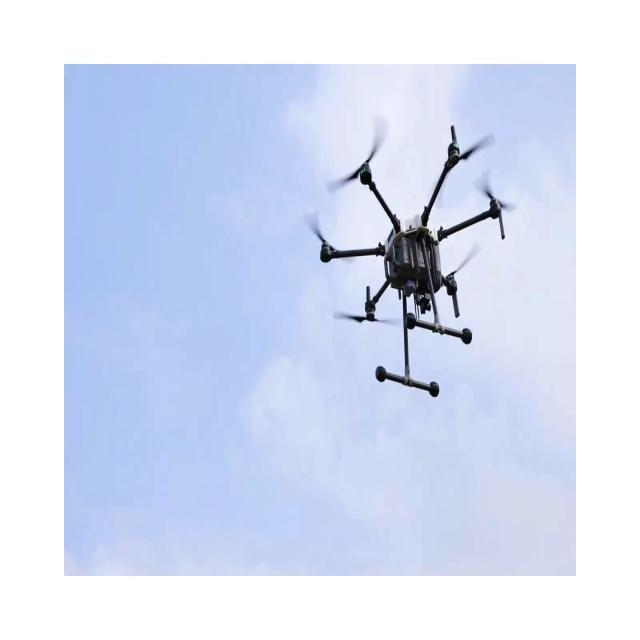drone: (304, 114, 516, 398)
